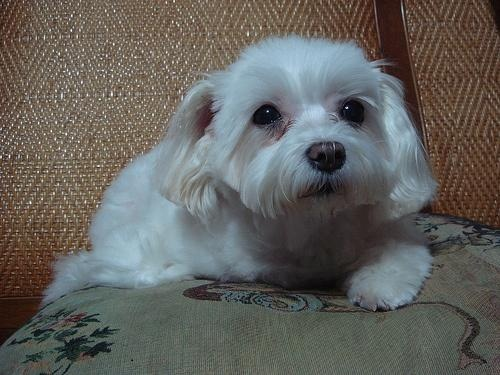dog: (42, 36, 435, 312)
